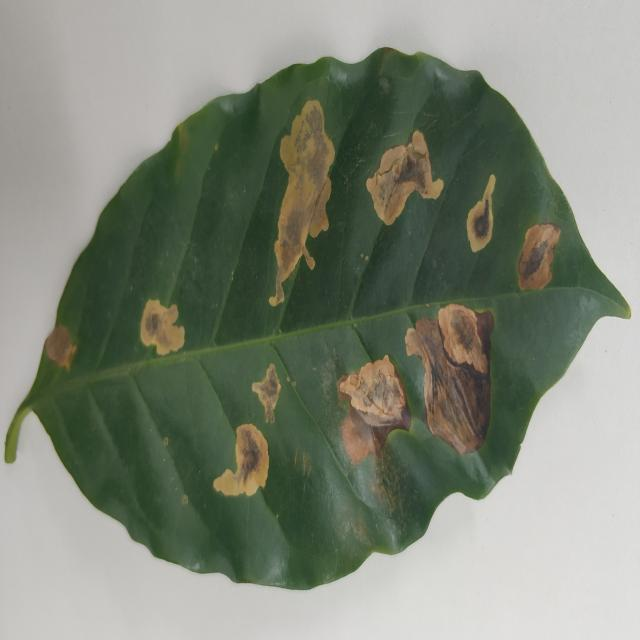Plaga-Minador: (2, 47, 633, 594)
